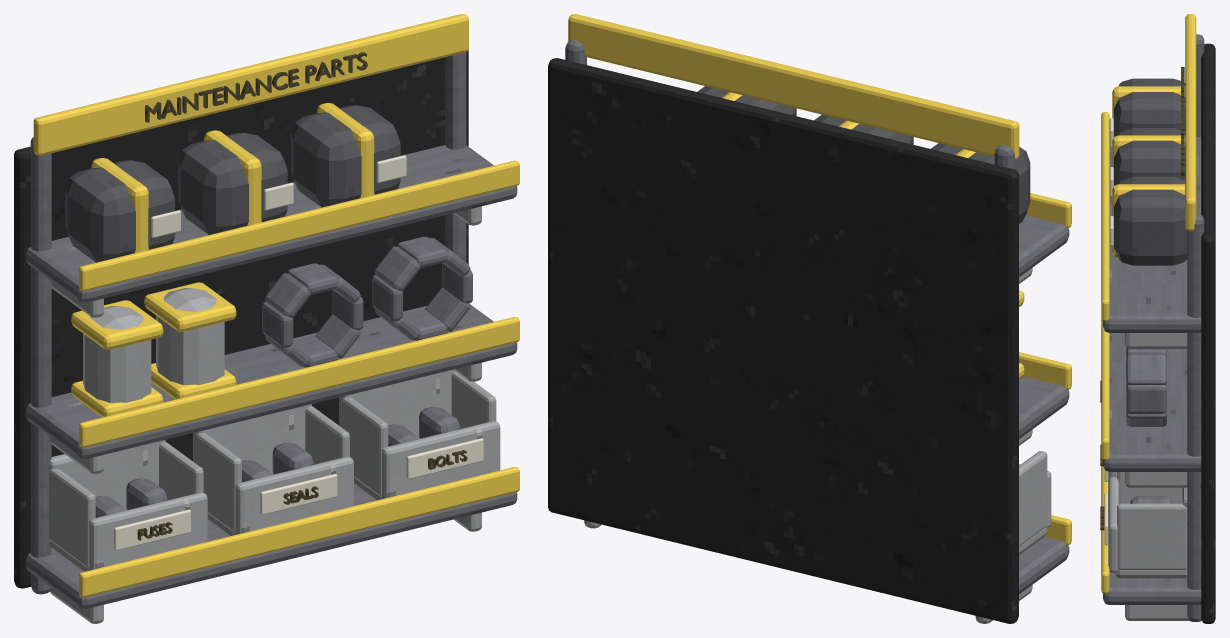
The model's file is decor_eng_parts_shelf.glb.
3 renders of one model, left to right at view 1: azimuth 30°, elevation 25°; view 2: azimuth 150°, elevation 25°; view 3: azimuth 270°, elevation 25°, orthographic. The views are drawn at different scales.
Visible parts, largest first — view 1: DEC_EngPartsShelf__Back_Panel, DEC_EngPartsShelf__Stores_Header, DEC_EngPartsShelf__Shelf_Deck_1, DEC_EngPartsShelf__Shelf_Lip_1, DEC_EngPartsShelf__Shelf_Lip_2, DEC_EngPartsShelf__Shelf_Lip_0, DEC_EngPartsShelf__Shelf_Deck_2, DEC_EngPartsShelf__Shelf_Deck_0, DEC_EngPartsShelf__Shelf_Upright_-0.68, DEC_EngPartsShelf__Spare_Pack_0, DEC_EngPartsShelf__Spare_Pack_2, DEC_EngPartsShelf__Spare_Pack_1 (+42 smaller); view 2: DEC_EngPartsShelf__Back_Panel, DEC_EngPartsShelf__Stores_Header, DEC_EngPartsShelf__Bin_Wall_0_-1, DEC_EngPartsShelf__Shelf_Deck_1, DEC_EngPartsShelf__Shelf_Deck_2, DEC_EngPartsShelf__Shelf_Deck_0, DEC_EngPartsShelf__Spare_Pack_0, DEC_EngPartsShelf__Shelf_Lip_1, DEC_EngPartsShelf__Shelf_Lip_2, DEC_EngPartsShelf__Spare_Pack_1, DEC_EngPartsShelf__Spare_Pack_2; view 3: DEC_EngPartsShelf__Back_Panel, DEC_EngPartsShelf__Shelf_Deck_1, DEC_EngPartsShelf__Shelf_Deck_2, DEC_EngPartsShelf__Spare_Pack_2, DEC_EngPartsShelf__Shelf_Upright_0.68, DEC_EngPartsShelf__Bin_Wall_2_1, DEC_EngPartsShelf__Spare_Pack_1, DEC_EngPartsShelf__Spare_Pack_0, DEC_EngPartsShelf__Stores_Header, DEC_EngPartsShelf__Shelf_Deck_0, DEC_EngPartsShelf__Shelf_Lip_2, DEC_EngPartsShelf__Coupling_1_02 (+18 smaller).
Part boxes in pixels (bbox=[...]): DEC_EngPartsShelf__Back_Panel: bbox=[14, 50, 468, 588]; DEC_EngPartsShelf__Stores_Header: bbox=[33, 14, 468, 155]; DEC_EngPartsShelf__Shelf_Deck_1: bbox=[26, 304, 517, 458]; DEC_EngPartsShelf__Shelf_Lip_1: bbox=[79, 317, 519, 447]; DEC_EngPartsShelf__Shelf_Lip_2: bbox=[79, 160, 519, 291]; DEC_EngPartsShelf__Shelf_Lip_0: bbox=[79, 467, 519, 597]; DEC_EngPartsShelf__Shelf_Deck_2: bbox=[26, 145, 517, 302]; DEC_EngPartsShelf__Shelf_Deck_0: bbox=[26, 486, 517, 608]; DEC_EngPartsShelf__Shelf_Upright_-0.68: bbox=[30, 137, 51, 594]; DEC_EngPartsShelf__Spare_Pack_0: bbox=[65, 160, 174, 262]; DEC_EngPartsShelf__Spare_Pack_2: bbox=[291, 105, 400, 207]; DEC_EngPartsShelf__Spare_Pack_1: bbox=[178, 133, 287, 234]; DEC_EngPartsShelf__Back_Panel: bbox=[548, 58, 1018, 623]; DEC_EngPartsShelf__Stores_Header: bbox=[568, 14, 1019, 159]; DEC_EngPartsShelf__Bin_Wall_0_-1: bbox=[1019, 451, 1047, 546]; DEC_EngPartsShelf__Shelf_Deck_1: bbox=[1019, 376, 1069, 438]; DEC_EngPartsShelf__Shelf_Deck_2: bbox=[1019, 215, 1069, 276]; DEC_EngPartsShelf__Shelf_Deck_0: bbox=[1019, 537, 1069, 594]; DEC_EngPartsShelf__Spare_Pack_0: bbox=[931, 143, 1030, 223]; DEC_EngPartsShelf__Shelf_Lip_1: bbox=[1019, 352, 1071, 389]; DEC_EngPartsShelf__Shelf_Lip_2: bbox=[1026, 193, 1071, 228]; DEC_EngPartsShelf__Spare_Pack_1: bbox=[814, 114, 913, 144]; DEC_EngPartsShelf__Spare_Pack_2: bbox=[697, 86, 796, 116]; DEC_EngPartsShelf__Back_Panel: bbox=[1201, 43, 1215, 623]; DEC_EngPartsShelf__Shelf_Deck_1: bbox=[1103, 333, 1201, 471]; DEC_EngPartsShelf__Shelf_Deck_2: bbox=[1103, 136, 1201, 332]; DEC_EngPartsShelf__Spare_Pack_2: bbox=[1114, 176, 1187, 265]; DEC_EngPartsShelf__Shelf_Upright_0.68: bbox=[1187, 214, 1204, 621]; DEC_EngPartsShelf__Bin_Wall_2_1: bbox=[1117, 503, 1187, 569]; DEC_EngPartsShelf__Spare_Pack_1: bbox=[1114, 127, 1185, 185]; DEC_EngPartsShelf__Spare_Pack_0: bbox=[1114, 78, 1185, 136]; DEC_EngPartsShelf__Stores_Header: bbox=[1185, 14, 1196, 231]; DEC_EngPartsShelf__Shelf_Deck_0: bbox=[1103, 572, 1201, 604]; DEC_EngPartsShelf__Shelf_Lip_2: bbox=[1101, 112, 1109, 321]; DEC_EngPartsShelf__Coupling_1_02: bbox=[1126, 355, 1166, 384].
Size of the model in its own units: 1.48 by 1.52 by 0.368.
7 materials, 4 textured.
